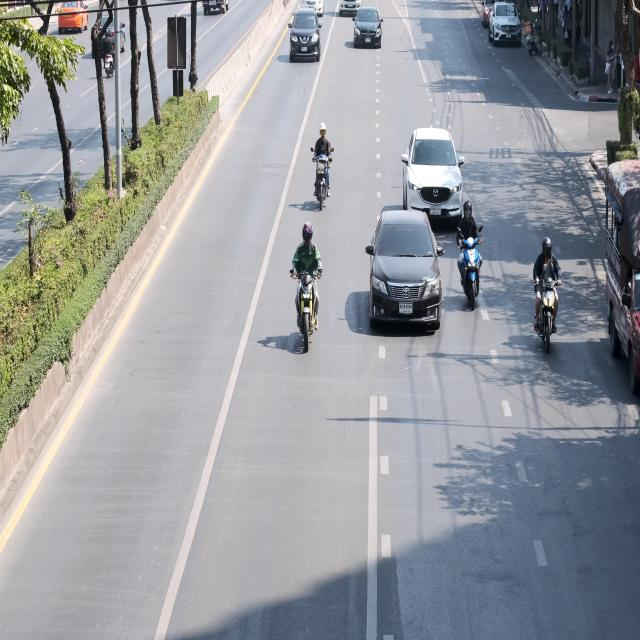cars: (357, 203, 448, 349), (599, 155, 640, 425), (392, 116, 477, 238), (286, 6, 328, 71), (86, 6, 132, 63), (350, 0, 386, 66), (487, 0, 526, 42), (53, 0, 92, 37), (476, 0, 512, 28)
motorcycle: (286, 216, 328, 384), (522, 224, 560, 359), (453, 190, 489, 318), (310, 110, 342, 222), (526, 10, 547, 70), (100, 31, 120, 85)
